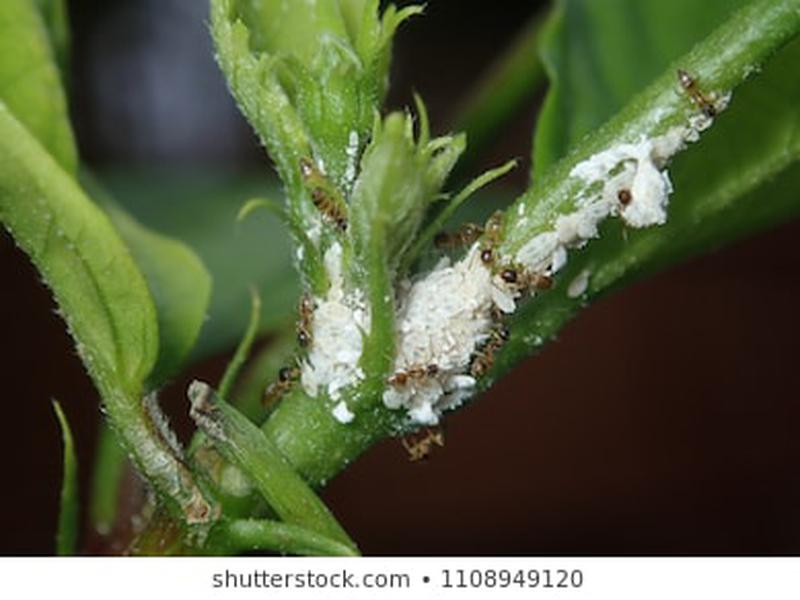Mealy_bug: (282, 69, 732, 420)
